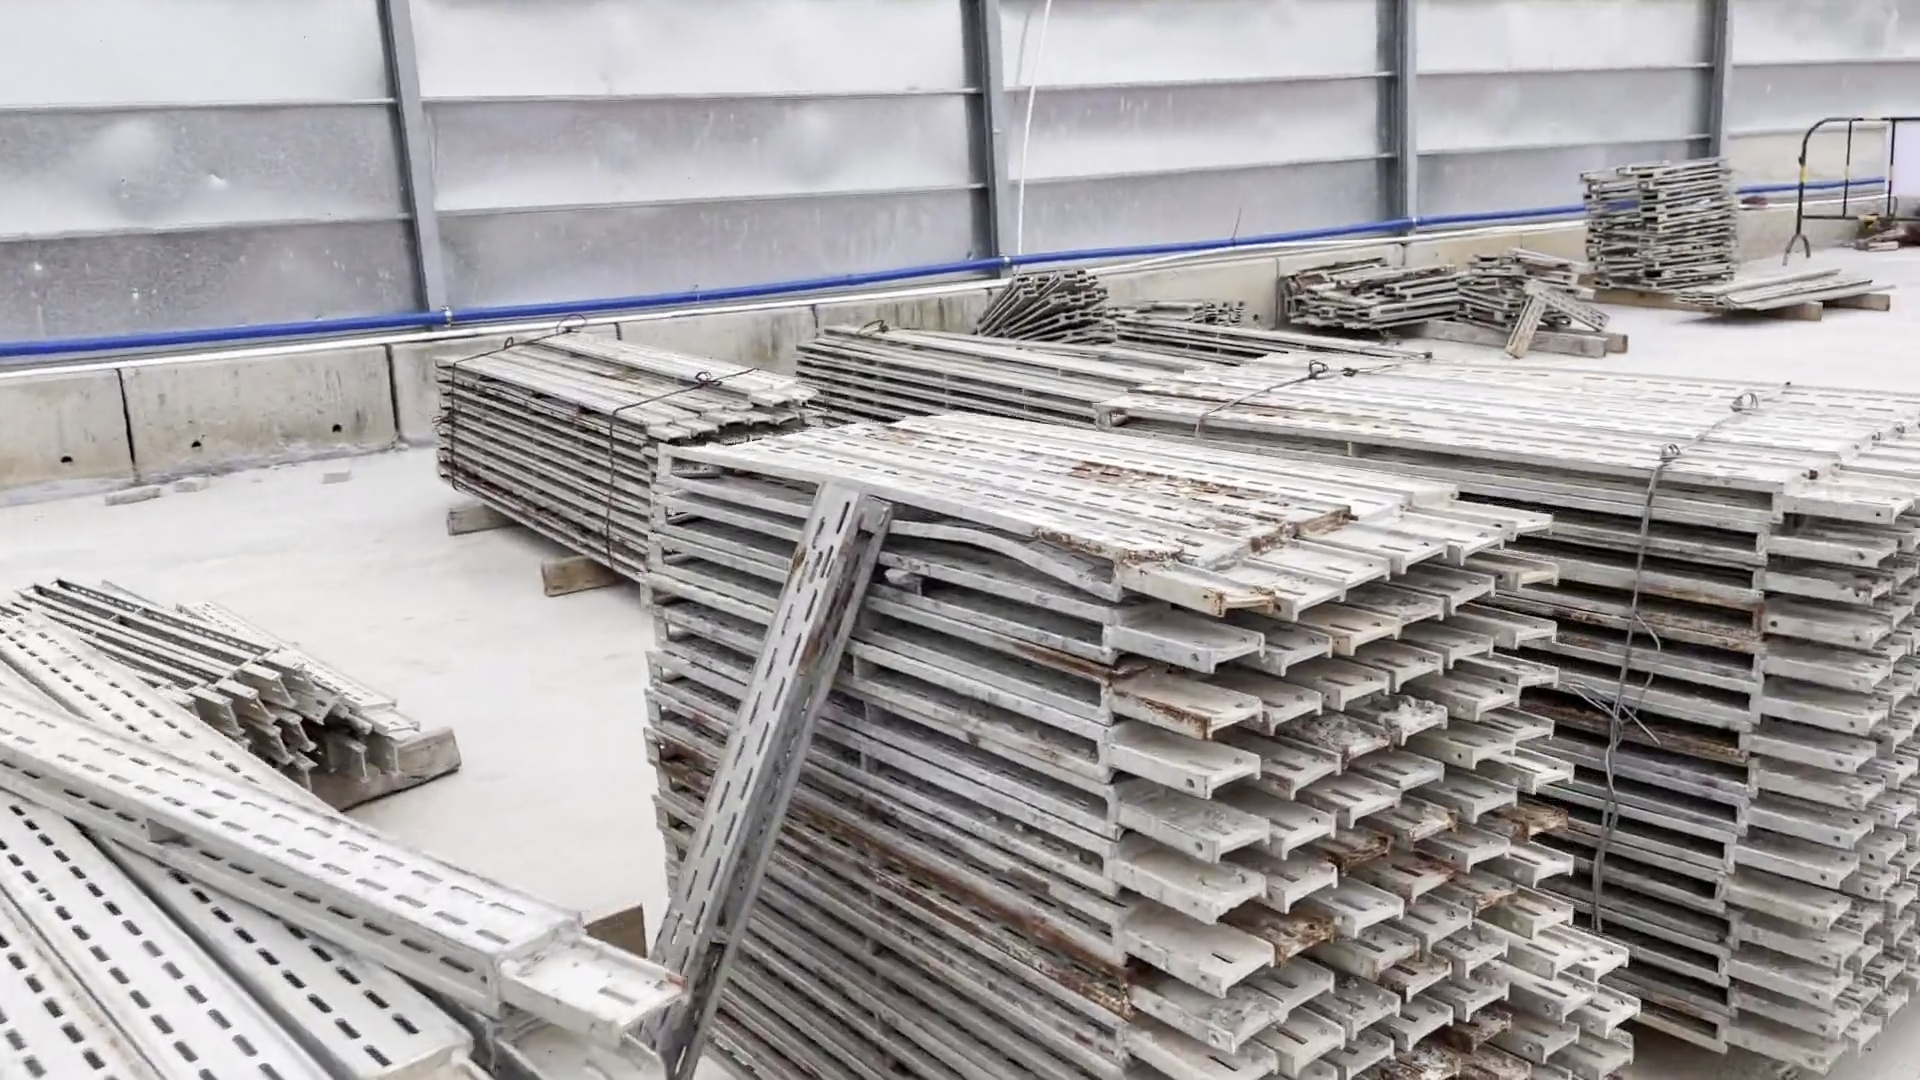fence: (1779, 103, 1920, 266)
